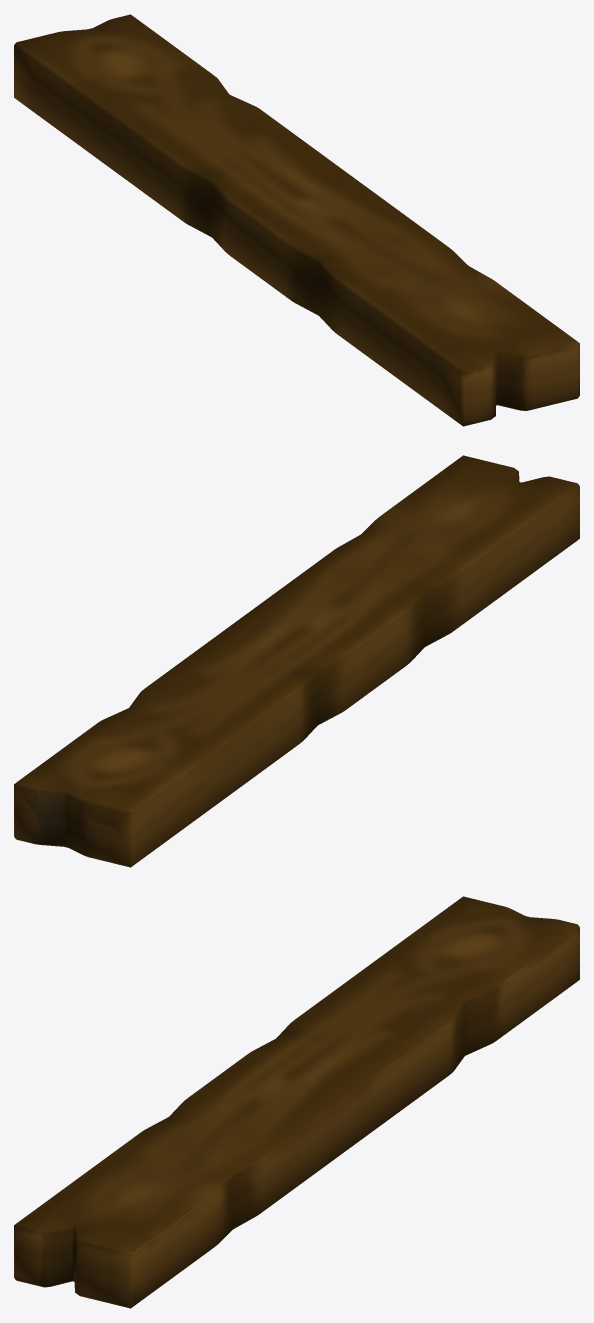
The model's file is wood.glb.
3 renders of one model, top to bottom at view 1: azimuth 30°, elevation 25°; view 2: azimuth 150°, elevation 25°; view 3: azimuth 330°, elevation 25°, orthographic.
Visible parts, largest first — view 1: Cube; view 2: Cube; view 3: Cube.
Boxes of the visible parts, left/top/right/bottom form: Cube: left=14, top=14, right=579, bottom=426; Cube: left=14, top=455, right=579, bottom=867; Cube: left=14, top=896, right=579, bottom=1308.
Size of the model in its own units: 0.3064 by 0.1406 by 2.
1 material, 1 textured.
